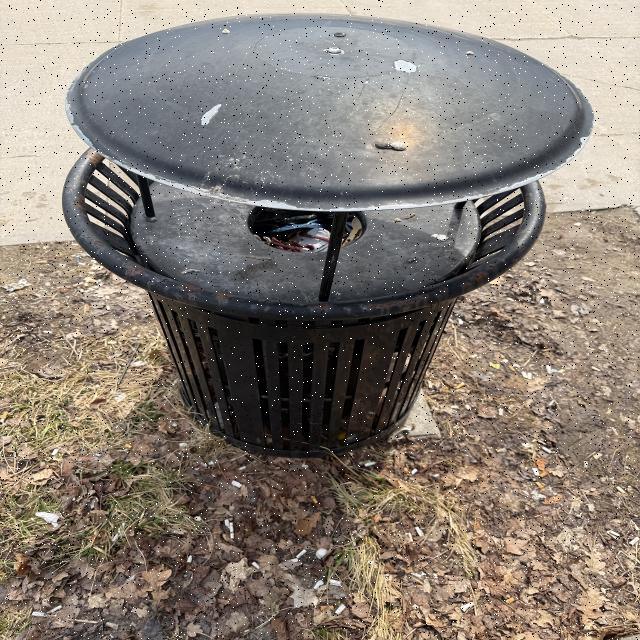Dustbin: (62, 14, 591, 456)
